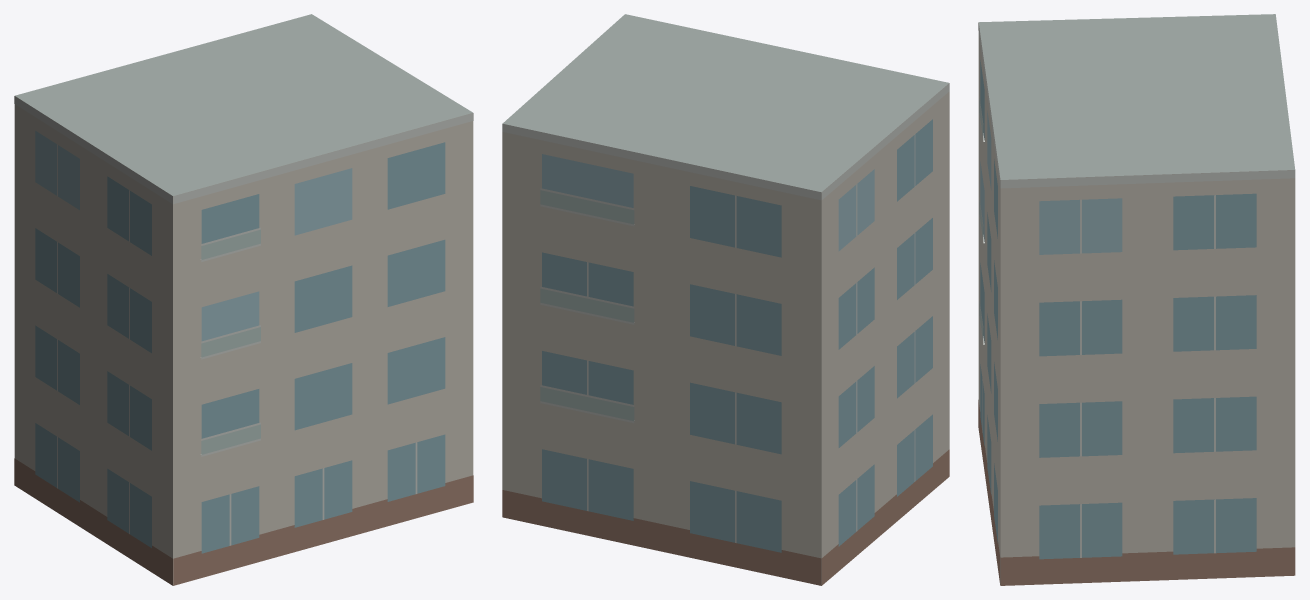
The model's file is survey-upis-32734219.glb.
3 renders of one model, left to right at view 1: azimuth 30°, elevation 25°; view 2: azimuth 150°, elevation 25°; view 3: azimuth 270°, elevation 25°, orthographic. The views are drawn at different scales.
Visible parts, largest first — view 1: survey-upis-32734219.tmp; view 2: survey-upis-32734219.tmp; view 3: survey-upis-32734219.tmp.
Part boxes in pixels (box(x1,y1,x2,y2)): survey-upis-32734219.tmp: box(14, 14, 473, 585); survey-upis-32734219.tmp: box(502, 14, 949, 585); survey-upis-32734219.tmp: box(978, 14, 1295, 585).
Bounding box in the file's own units: 10.28 × 11.7 × 8.28.
